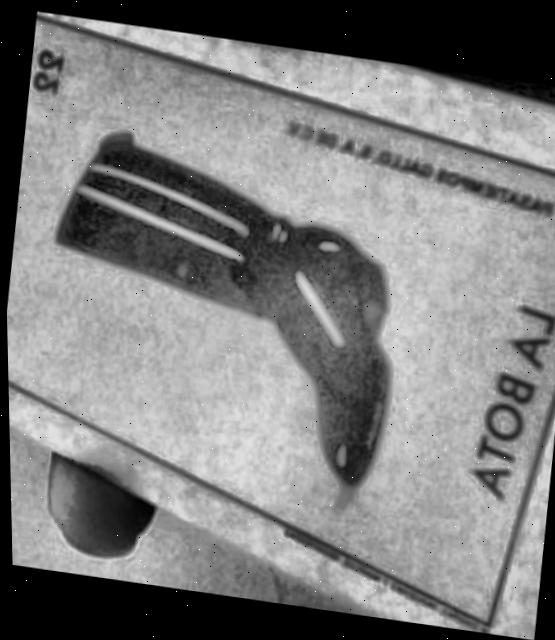La Bota: (5, 17, 555, 627)
